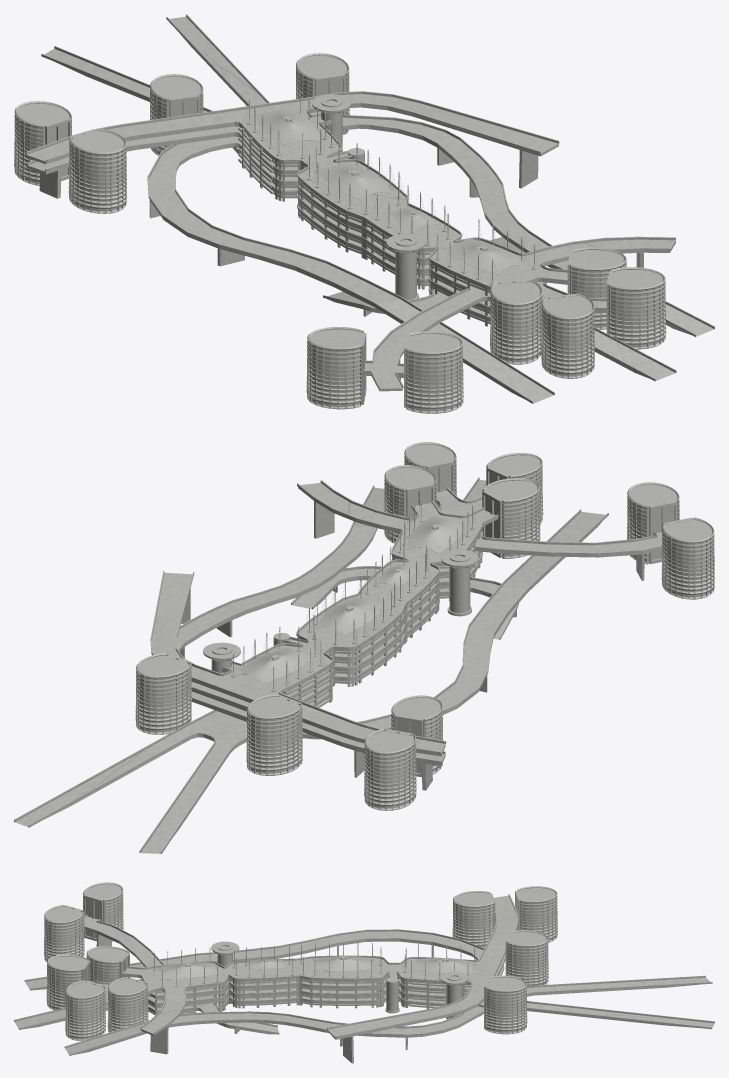
Rendered from jamaraat.glb.
3 views of the same model, one above another, from view 1: azimuth 30°, elevation 25°; view 2: azimuth 150°, elevation 25°; view 3: azimuth 270°, elevation 25° (orthographic). The views are drawn at different scales.
Parts seen in each view (by area): view 1: _gltfNode_5, _gltfNode_6, _gltfNode_20, _gltfNode_0, _gltfNode_21, _gltfNode_3, _gltfNode_13, _gltfNode_15, _gltfNode_14, _gltfNode_19, _gltfNode_17, _gltfNode_18 (+6 smaller); view 2: _gltfNode_5, _gltfNode_6, _gltfNode_20, _gltfNode_0, _gltfNode_3, _gltfNode_11, _gltfNode_10, _gltfNode_14, _gltfNode_12, _gltfNode_18, _gltfNode_21, _gltfNode_2 (+6 smaller); view 3: _gltfNode_5, _gltfNode_6, _gltfNode_20, _gltfNode_3, _gltfNode_21, _gltfNode_0, _gltfNode_10, _gltfNode_17, _gltfNode_11, _gltfNode_13, _gltfNode_15, _gltfNode_16 (+7 smaller).
Part boxes in pixels (<box>): _gltfNode_5: <box>26,16,713,403</box>; _gltfNode_6: <box>26,14,714,403</box>; _gltfNode_20: <box>17,70,461,411</box>; _gltfNode_0: <box>255,107,525,275</box>; _gltfNode_21: <box>492,251,664,376</box>; _gltfNode_3: <box>238,127,546,326</box>; _gltfNode_13: <box>68,128,127,213</box>; _gltfNode_15: <box>406,331,463,413</box>; _gltfNode_14: <box>306,327,363,409</box>; _gltfNode_19: <box>541,293,594,378</box>; _gltfNode_17: <box>608,267,666,349</box>; _gltfNode_18: <box>490,280,542,364</box>; _gltfNode_5: <box>15,479,662,853</box>; _gltfNode_6: <box>14,477,662,853</box>; _gltfNode_20: <box>138,499,712,808</box>; _gltfNode_0: <box>236,516,464,683</box>; _gltfNode_3: <box>284,529,482,707</box>; _gltfNode_11: <box>246,694,302,775</box>; _gltfNode_10: <box>135,653,191,734</box>; _gltfNode_14: <box>661,517,714,599</box>; _gltfNode_12: <box>364,728,416,810</box>; _gltfNode_18: <box>482,478,540,558</box>; _gltfNode_21: <box>387,459,541,557</box>; _gltfNode_2: <box>203,549,478,673</box>; _gltfNode_5: <box>14,895,714,1063</box>; _gltfNode_6: <box>14,894,714,1055</box>; _gltfNode_20: <box>46,891,554,1032</box>; _gltfNode_3: <box>142,973,469,1015</box>; _gltfNode_21: <box>49,953,147,1039</box>; _gltfNode_0: <box>155,956,477,979</box>; _gltfNode_10: <box>485,975,527,1034</box>; _gltfNode_17: <box>65,980,106,1040</box>; _gltfNode_11: <box>507,930,548,985</box>; _gltfNode_13: <box>452,891,493,948</box>; _gltfNode_15: <box>44,904,84,961</box>; _gltfNode_16: <box>107,977,148,1032</box>.
Size of the model in its own units: 1550 by 245 by 3219.
2 materials, 1 textured.
